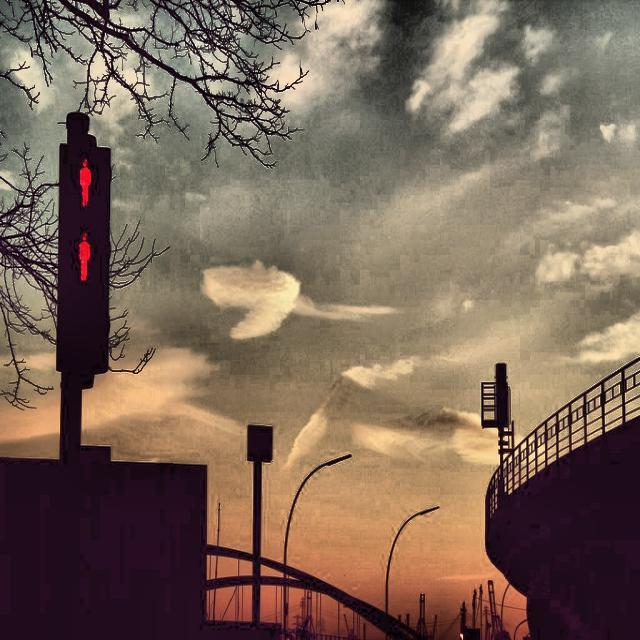red_light: (76, 226, 92, 285), (78, 154, 92, 210)
